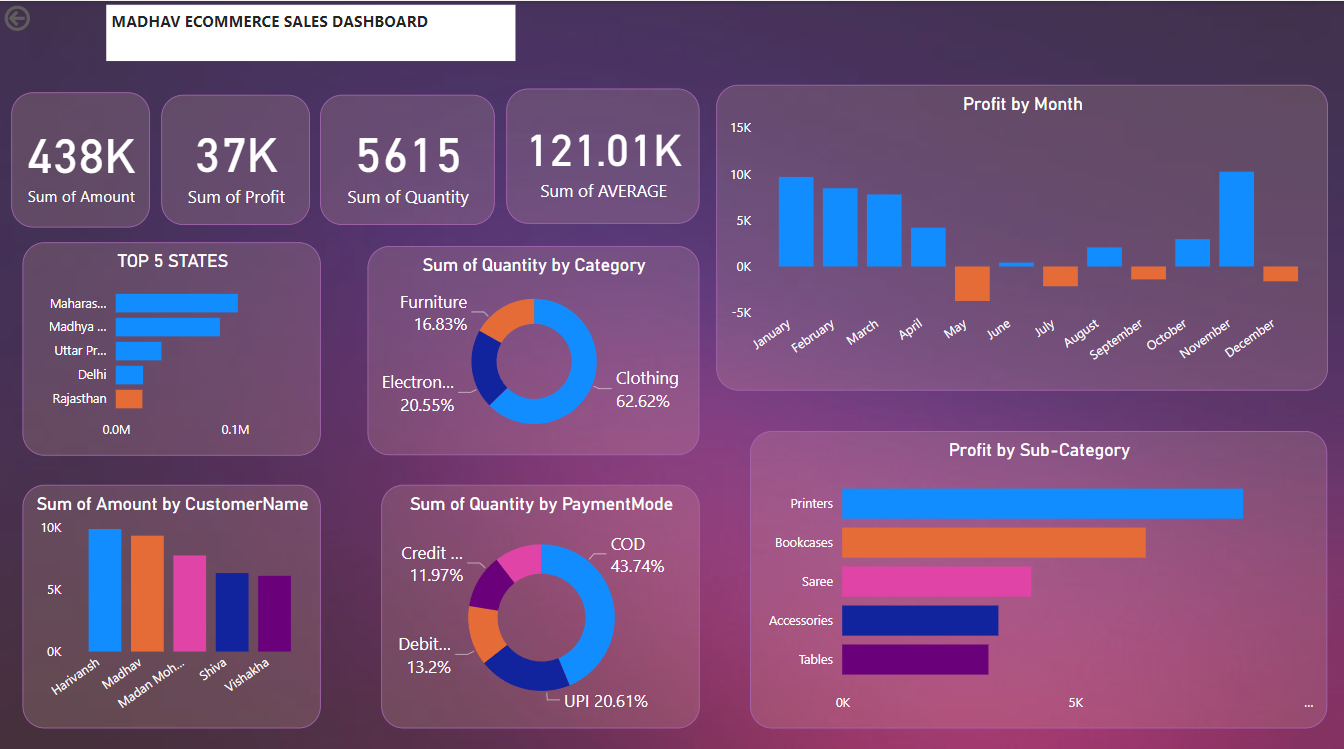

What the dashboard file says about the page in this screenshot:
{"tool":"powerbi","page":{"name":"Page 1","canvas":[1280,720],"ordinal":0},"visuals":[{"type":"textbox","box":[101.5,4.1,389.7,53.5],"z":0},{"type":"columnChart","title":" Profit by Month","fields":{"Category":["Orders.Order Date.Variation.Date Hierarchy.Month"],"Y":["Details.Profit"]},"box":[681.4,79.7,582.4,291.2],"z":1},{"type":"barChart","title":"Profit by Sub-Category","fields":{"Y":["Details.Profit"],"Category":["Details.Sub-Category"]},"box":[714.3,409.4,549.5,283],"z":2},{"type":"donutChart","fields":{"Y":["Details.Quantity"],"Category":["Details.Category"]},"box":[349.9,233.3,315.6,199],"z":3},{"type":"donutChart","fields":{"Y":["Details.Quantity"],"Category":["Details.PaymentMode"]},"box":[362.7,460.2,303.6,232.2],"z":4},{"type":"card","fields":{"Values":["Details.Amount"]},"box":[11,86.5,131.9,129.1],"z":5},{"type":"card","fields":{"Values":["Details.Profit"]},"box":[153.9,89.3,141.5,123.6],"z":6},{"type":"card","fields":{"Values":["Details.Quantity"]},"box":[305,89.3,166.2,123.6],"z":7},{"type":"card","fields":{"Values":["Details.AVERAGE"]},"box":[482.2,83.8,184.1,129.1],"z":8},{"type":"actionButton","box":[0,0,42.5,32.9],"z":9},{"type":"barChart","title":"TOP 5 STATES ","fields":{"Category":["Orders.State"],"Y":["Details.Amount"]},"box":[22,229.2,284,203.1],"z":10},{"type":"columnChart","fields":{"Y":["Details.Amount"],"Category":["Orders.CustomerName"]},"box":[21,460,284,232],"z":11}]}

Visuals, with their boxes in screenshot pixels (x1, y1, x2, y2), scaled from the page's 1280x720 canvas onto the 1344x749 screenshot:
textbox: 107, 4, 516, 60
" Profit by Month" columnChart: 715, 83, 1327, 386
"Profit by Sub-Category" barChart: 750, 426, 1327, 720
donutChart - Details.Quantity x Details.Category: 367, 243, 699, 450
donutChart - Details.Quantity x Details.PaymentMode: 381, 479, 700, 720
card - Details.Amount: 12, 90, 150, 224
card - Details.Profit: 162, 93, 310, 221
card - Details.Quantity: 320, 93, 495, 221
card - Details.AVERAGE: 506, 87, 700, 221
actionButton: 0, 0, 45, 34
"TOP 5 STATES " barChart: 23, 238, 321, 450
columnChart - Details.Amount x Orders.CustomerName: 22, 479, 320, 720
